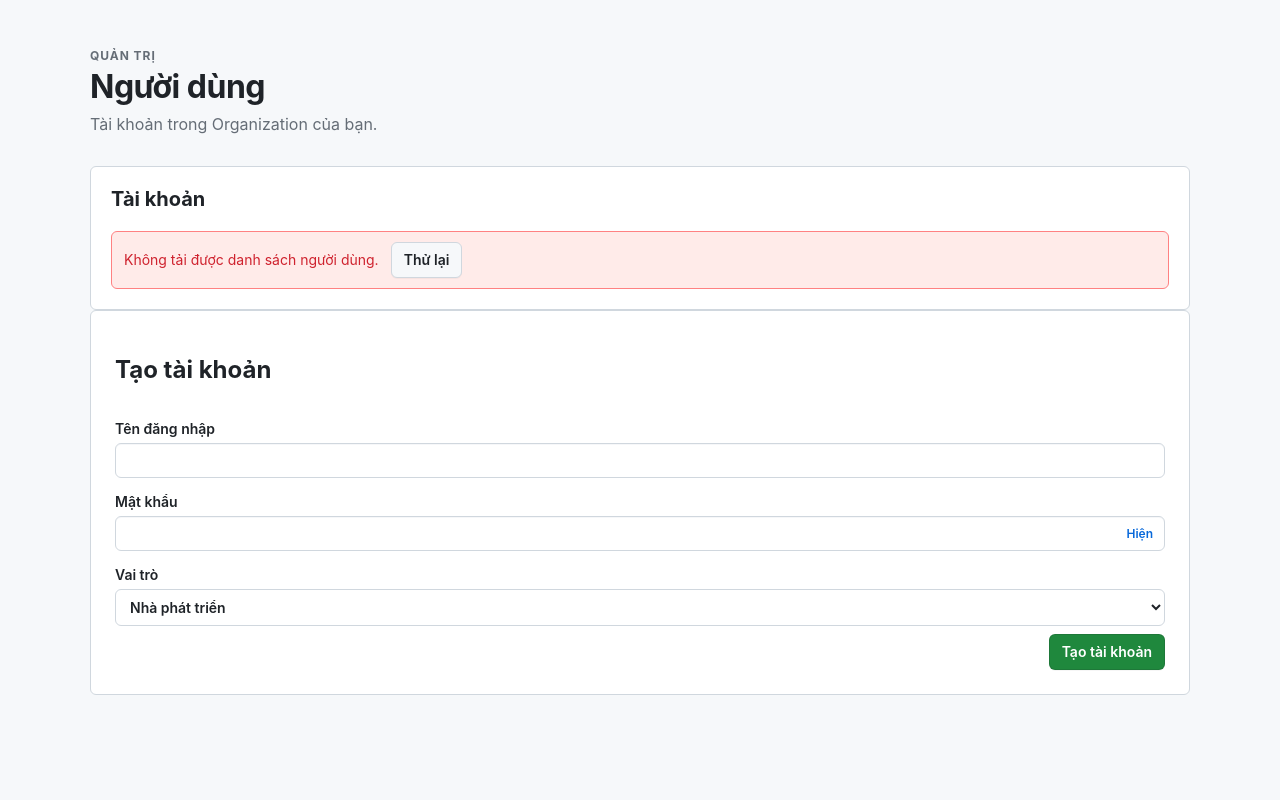
Scenario: offers a retry when the list fails to load
Expected: the message shows "Không tải được danh sách người dùng.", [124,251,379,268]
Click the button "Thử lại".
click(426, 260)  # box [391,242,462,278]
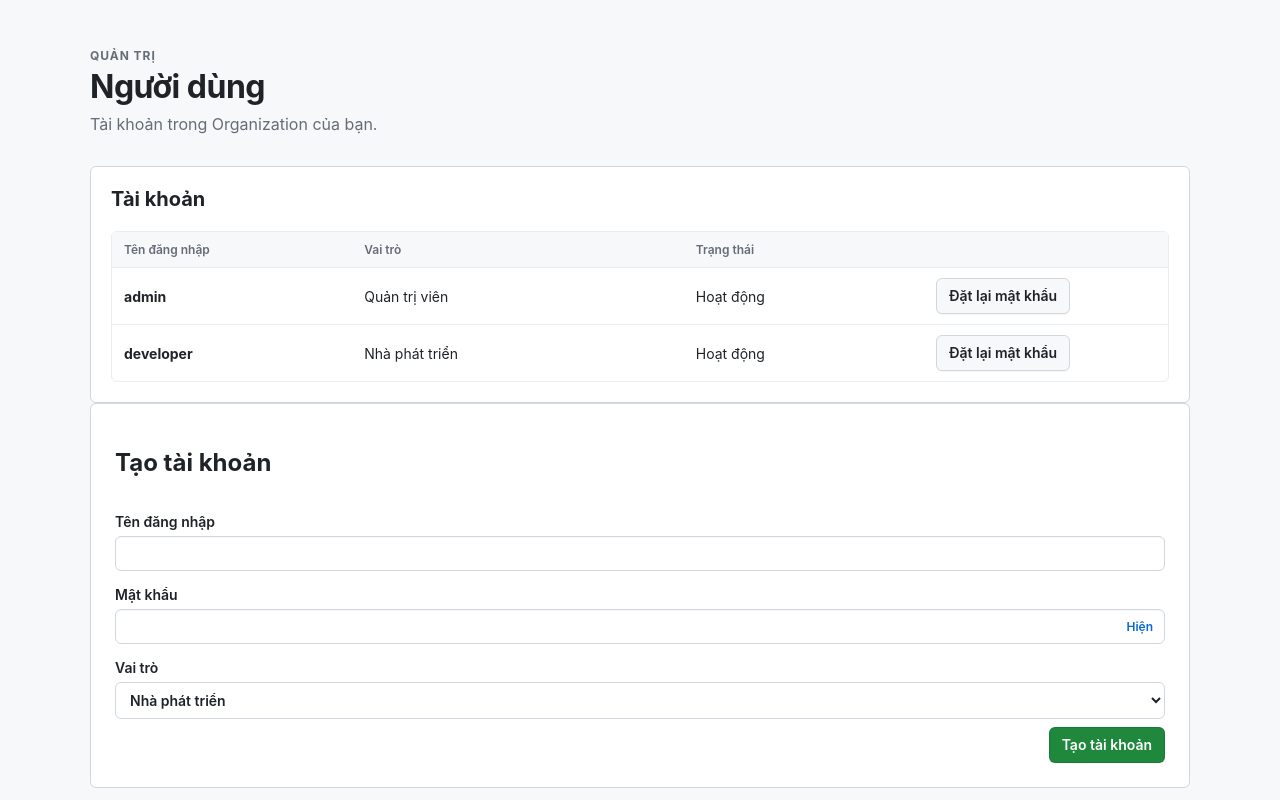
Now the text "admin" is shown, box [124,288,166,304]
